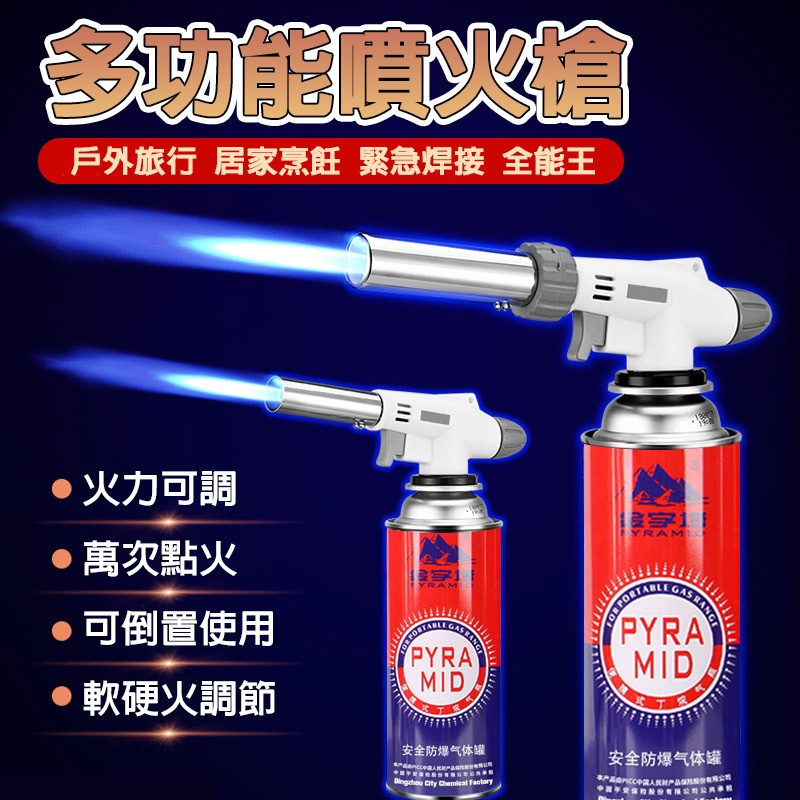gastorch: (342, 227, 767, 795), (248, 351, 535, 800)
